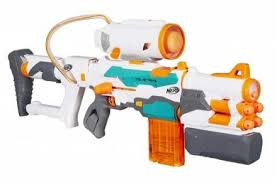Arma Falsa: (7, 15, 267, 169)
